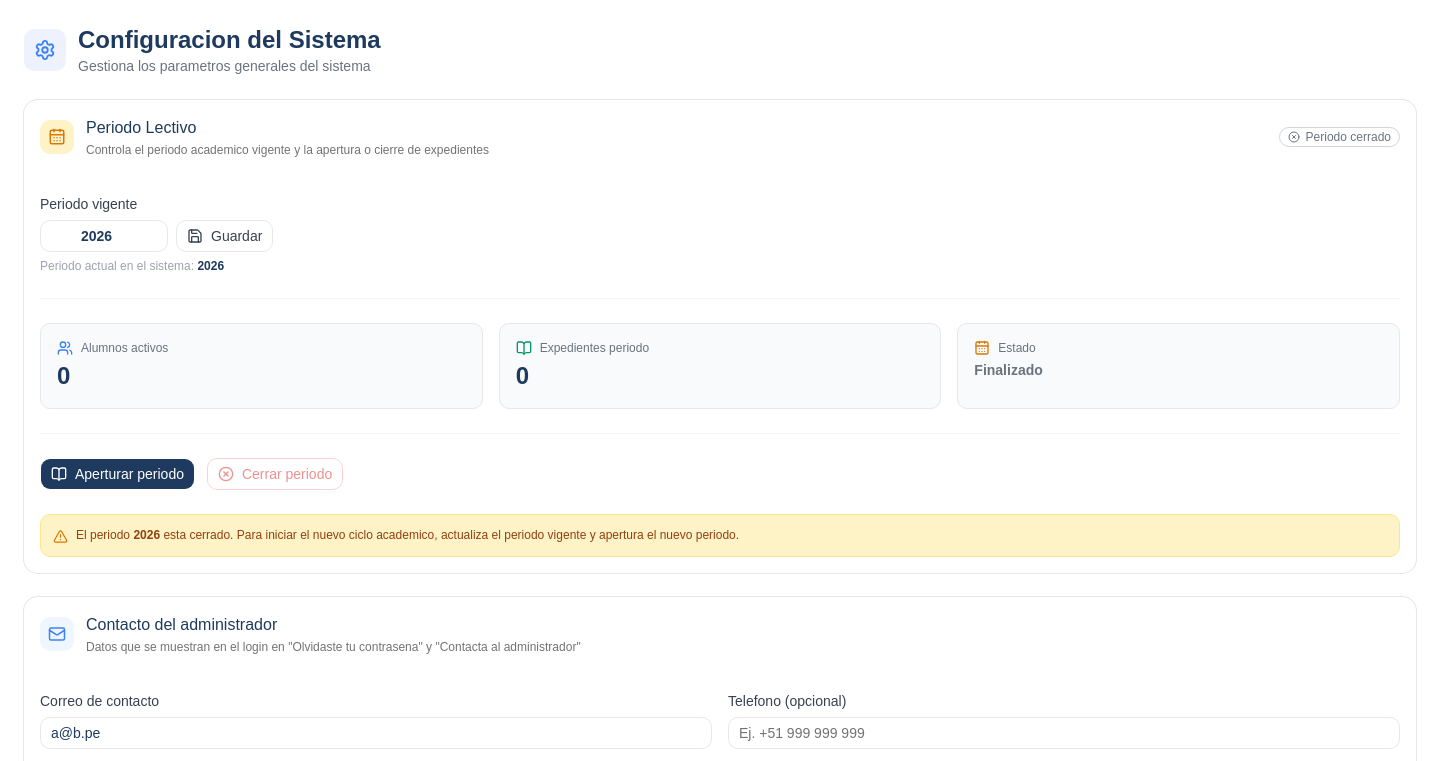
Test: AdminConfig — validacion de formato del periodo › muestra un error en vez de no hacer nada cuando el año es invalido
The width and height of the screenshot is (1440, 761).
Expected: the button "Guardar" is enabled, [176,220,273,252]
Replace the text in the number field with "20271": x=104, y=236 [40,220,168,252]
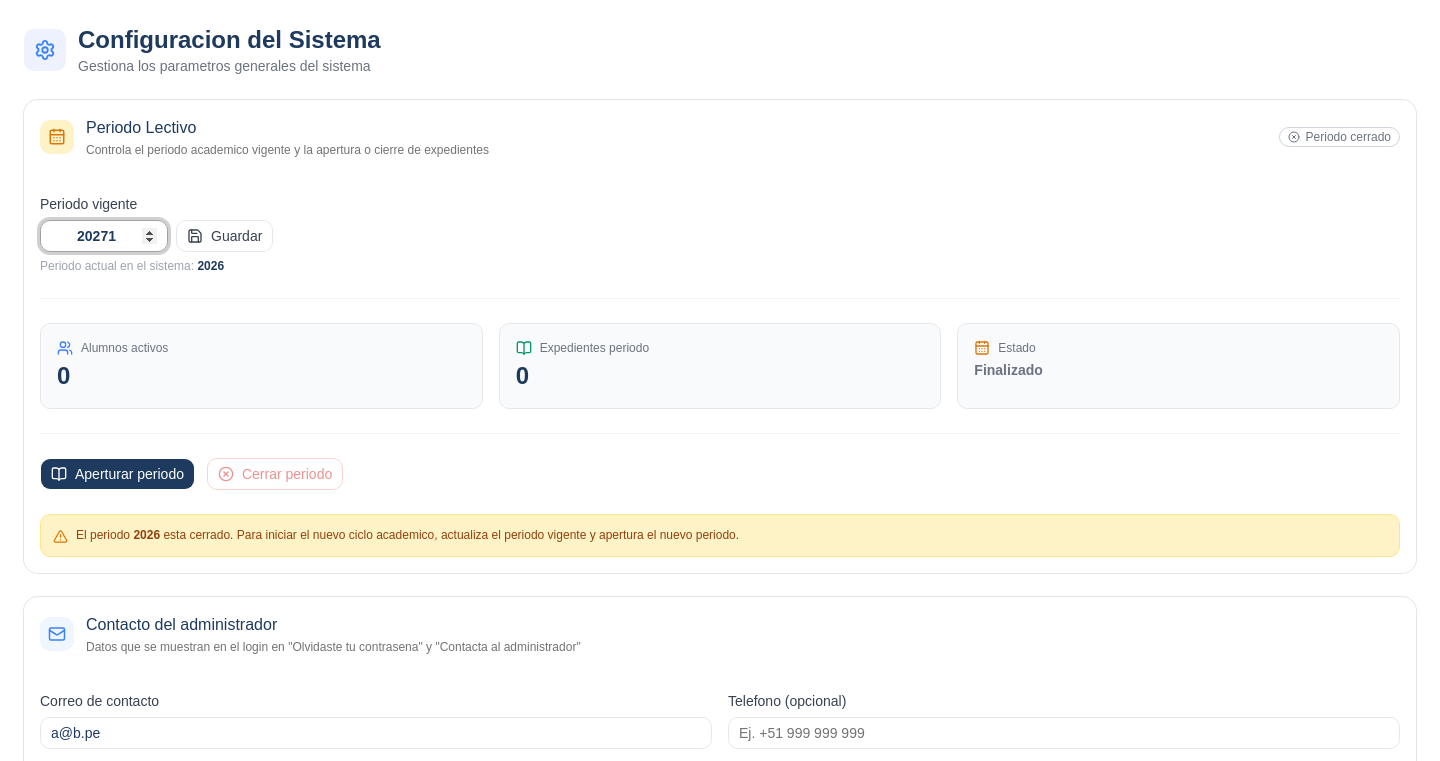
Click the button "Guardar": x=225, y=236 [176,220,273,252]
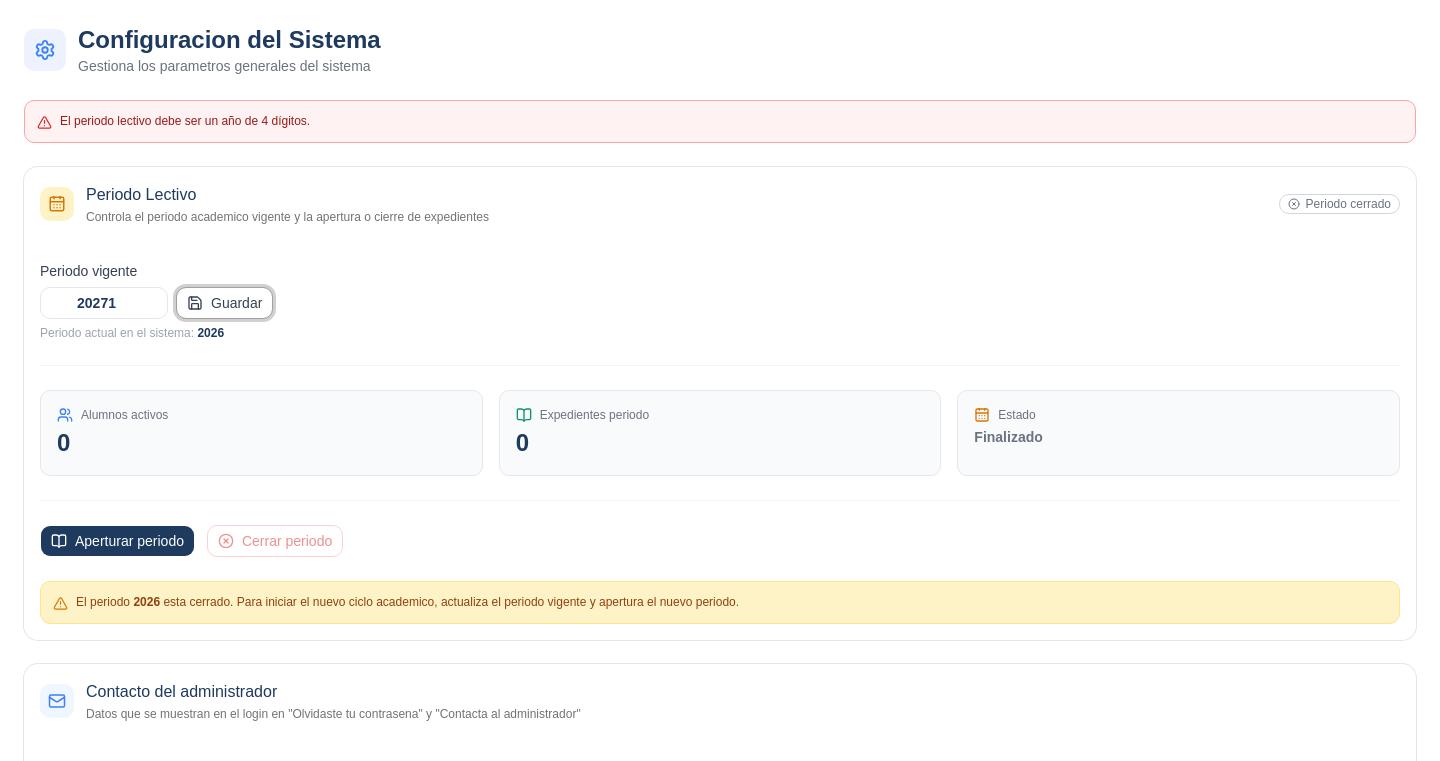
Expected: the text "El periodo lectivo debe ser un año de 4 dígitos." is shown, [60,113,310,129]
